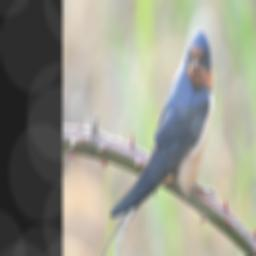Swallow: (90, 28, 216, 256)
